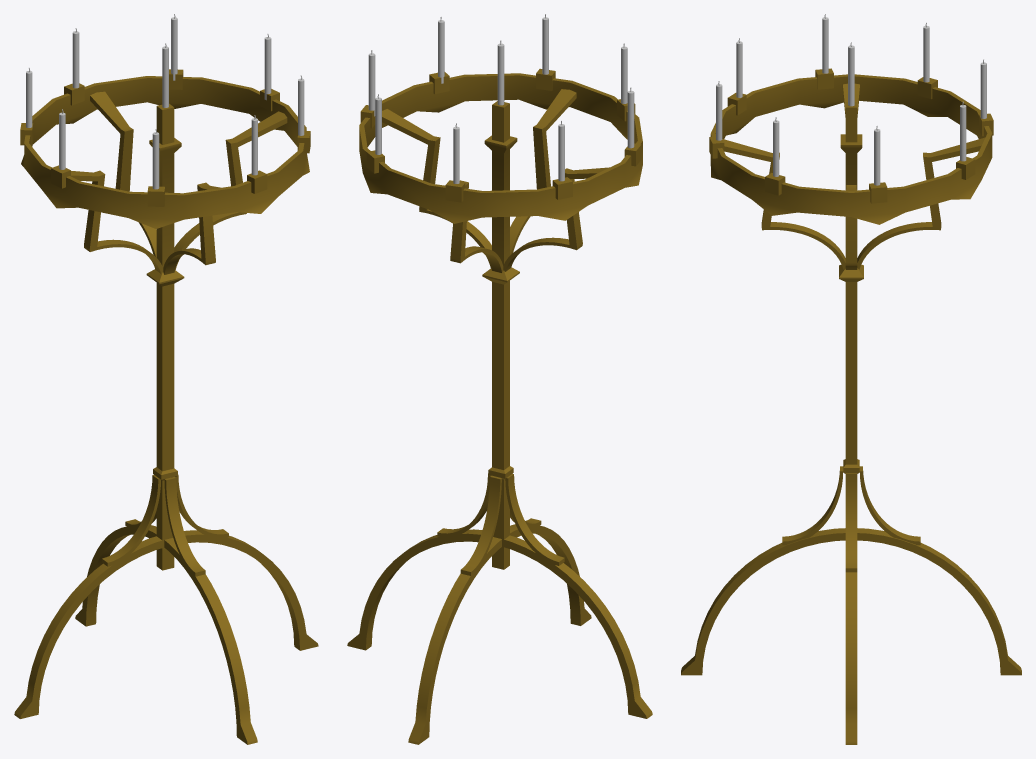
File: candle holder tex.fbx
The picture shows the model from 3 angles, left to right: view 1: azimuth 30°, elevation 25°; view 2: azimuth 150°, elevation 25°; view 3: azimuth 270°, elevation 25°; orthographic projection.
Visible parts, largest first — view 1: chan_2_2; view 2: chan_2_2; view 3: chan_2_2.
Boxes of the visible parts, left/top/right/bottom form: chan_2_2: left=14, top=14, right=318, bottom=744; chan_2_2: left=347, top=14, right=652, bottom=744; chan_2_2: left=681, top=14, right=1021, bottom=744.
Bounding box in the file's own units: 20.56 × 41.95 × 20.56.
